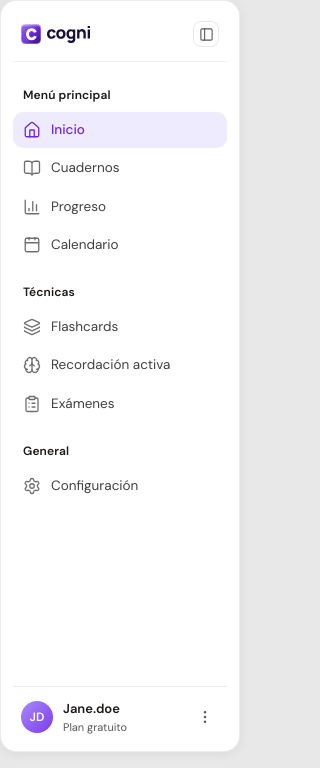
Scenario: Sidebar › collapses on click and persists the choice in a cookie
Step 1. Click the button named "Contraer barra lateral" → (206, 34), box [193,21,219,47]
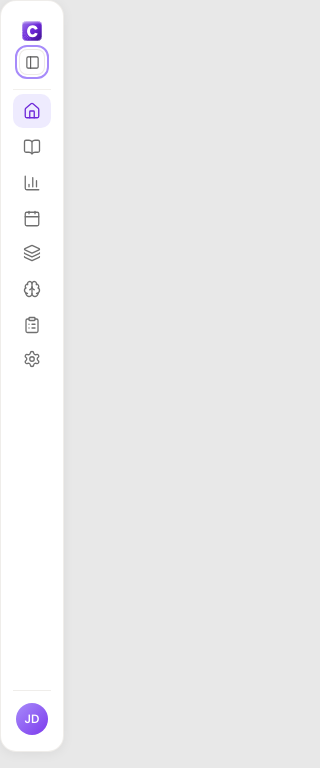
Check: the button named "Expandir barra lateral" is collapsed, box [19,49,45,75]
